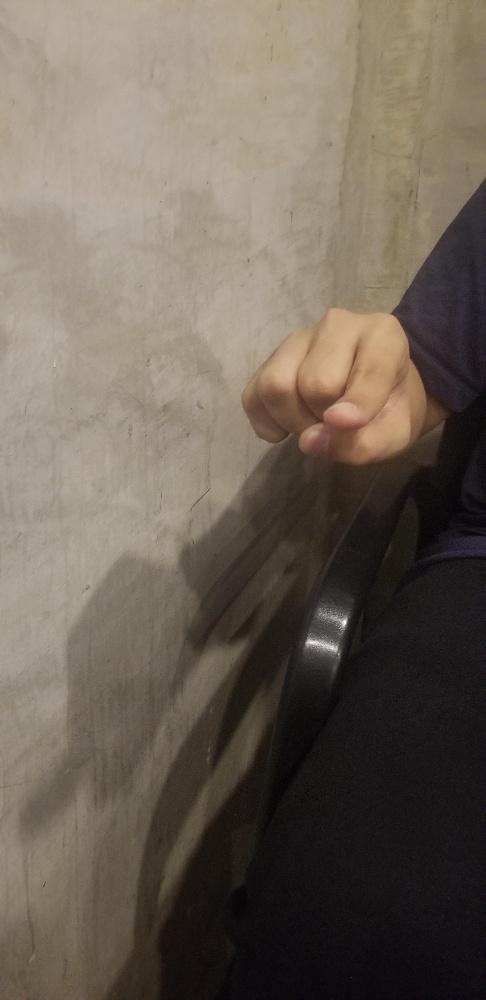z: (236, 304, 427, 471)
